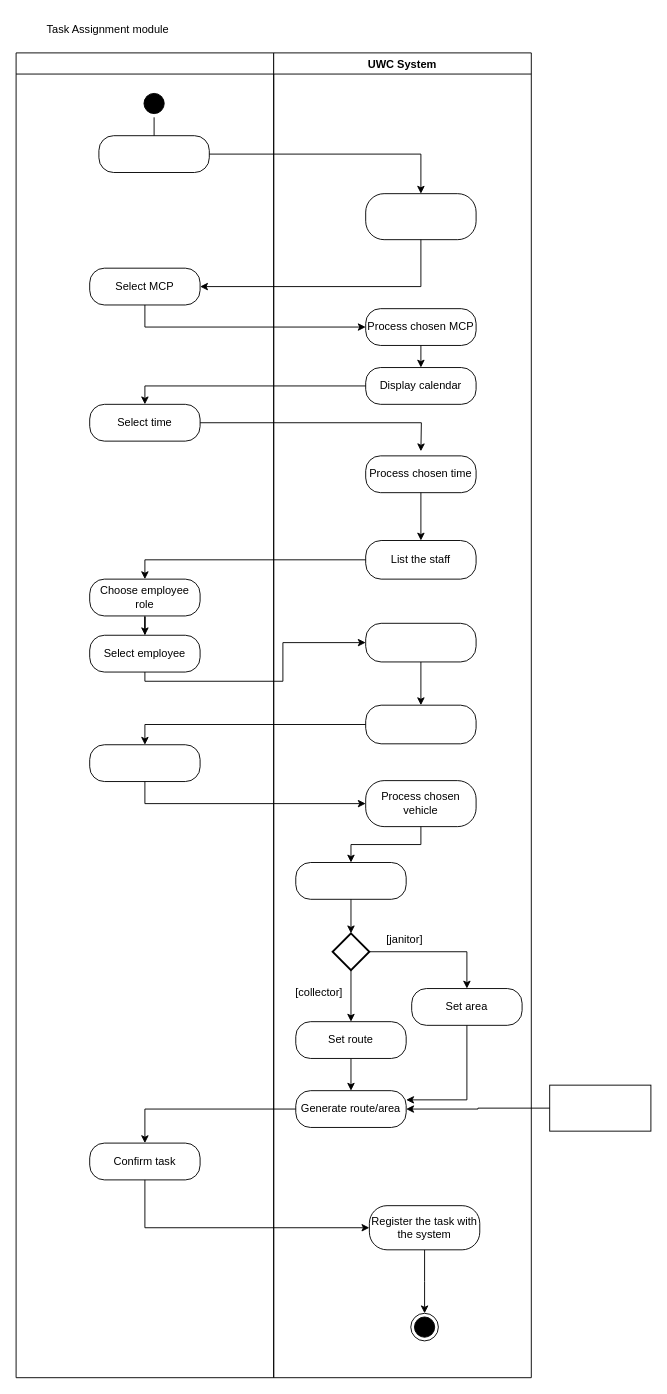
Image size: 667x1394. Some labels were removed from this diagram. Here are the shapes that lost their labels. From the top down, the box of each, then its label:
(98, 135, 209, 172): Choose task assignment
(365, 193, 476, 240): Display available MCPs on the maps
(365, 622, 476, 662): Process chosen employee
(15, 52, 274, 1378): Back Officer
(365, 704, 476, 744): List the available vehicles
(89, 744, 200, 782): Assign vehicle to collector and janitor
(295, 862, 406, 899): Check employee role
(549, 1084, 651, 1131): «system» Maps Service
